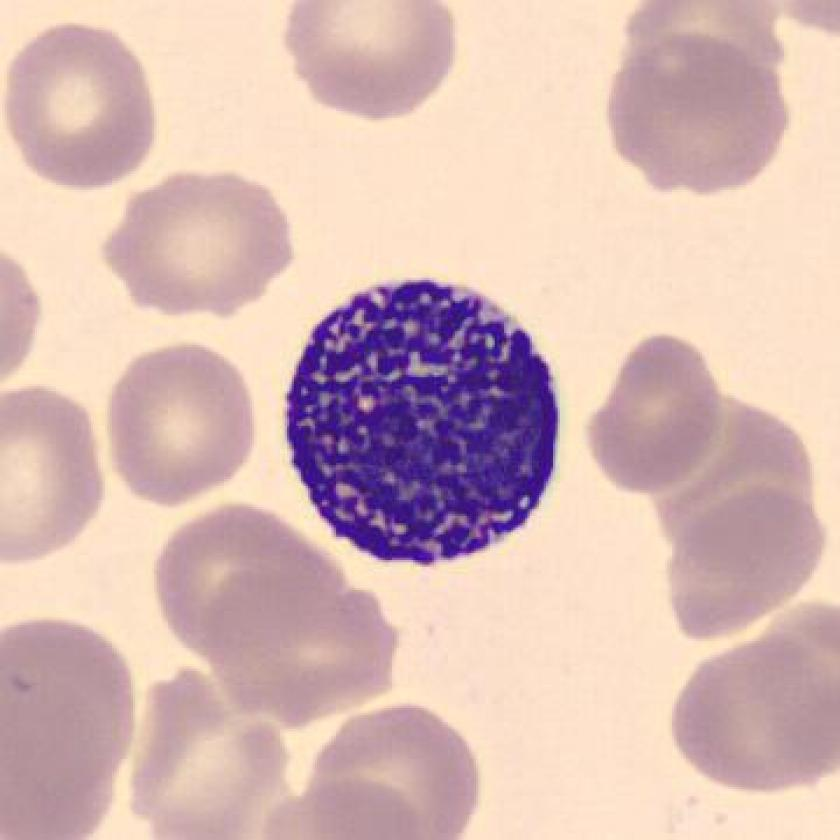basophil: (267, 267, 577, 577)
